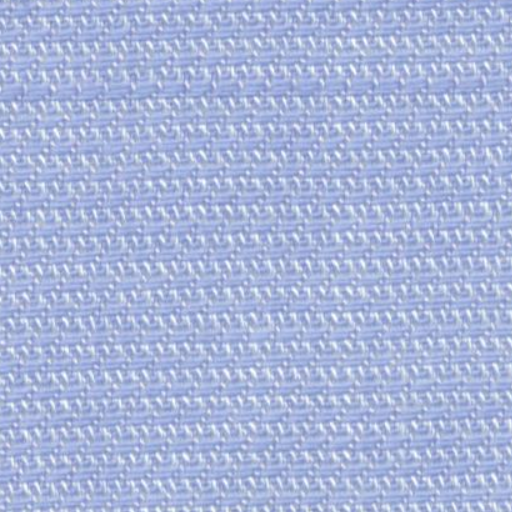TuoSha: (12, 58, 488, 127)
